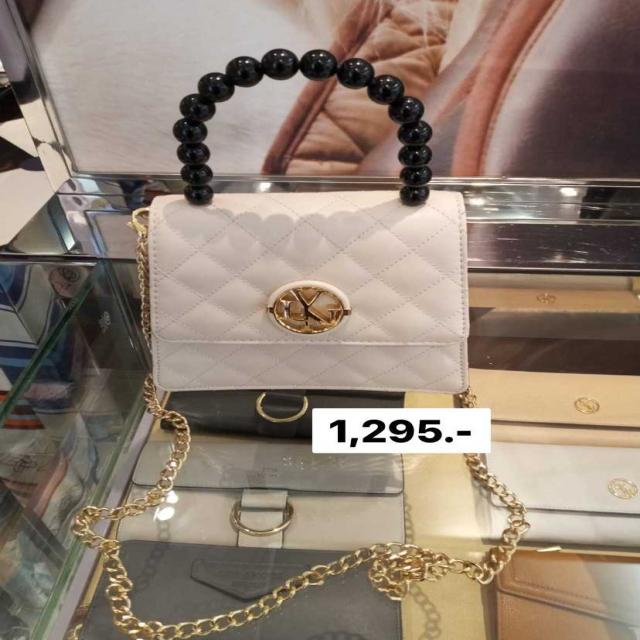Handbag: (138, 136, 473, 418)
